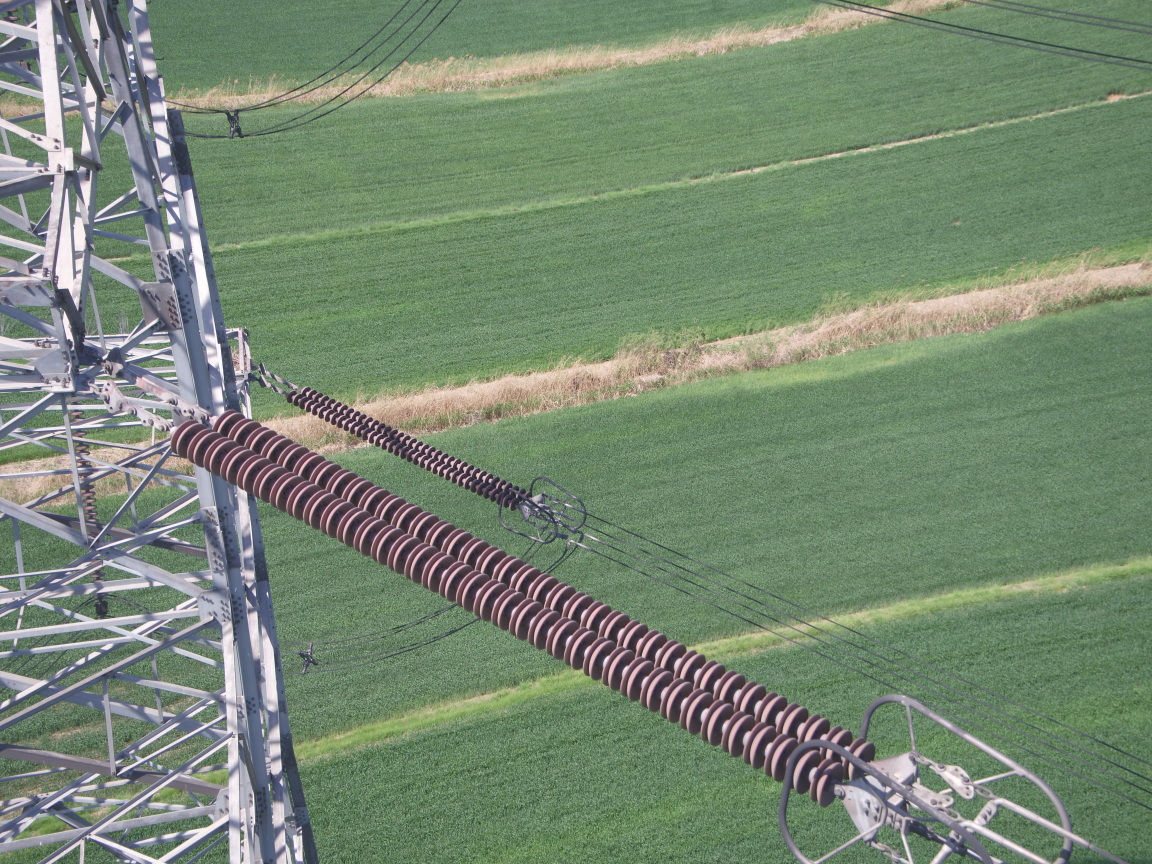insulator: (153, 396, 887, 816), (279, 377, 535, 514)
